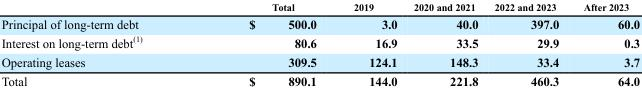table: (0, 0, 639, 87)
table column: (0, 0, 194, 87), (194, 0, 334, 87), (485, 0, 570, 87), (404, 0, 485, 87), (334, 0, 404, 87), (570, 0, 639, 87)
table column header: (0, 0, 639, 14)
table row: (0, 32, 639, 52), (0, 52, 639, 71), (0, 14, 639, 32), (0, 71, 639, 87), (0, 0, 639, 14)
